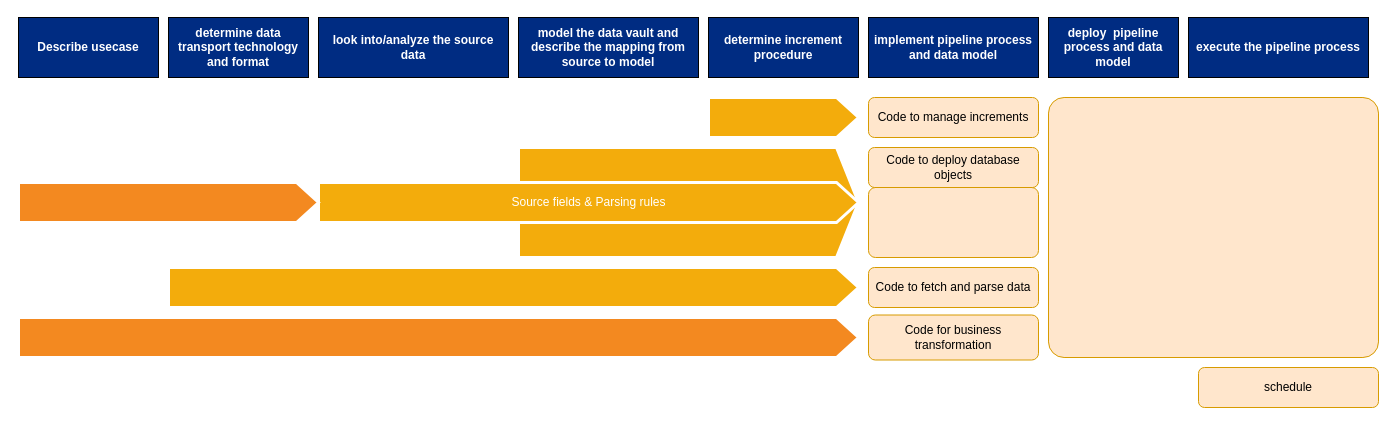
This 1396x425 diagram has some shape labels left out. The shapes that lost their labels are listed below. From the top down, each one's box as (x1, y1, x2, y2) in pixels, then its label:
(706, 96, 860, 138): Parameters about increment procedure
(16, 180, 320, 224): Ilist of data sources
(516, 146, 860, 258): Data model & field mapping to model deletion detection method
(868, 186, 1038, 258): Code to stage and load data
(1048, 96, 1378, 358): process specific executable artifact(s)
(166, 266, 860, 308): Parameters about transport and format
(16, 316, 860, 358): Specification of transformation
